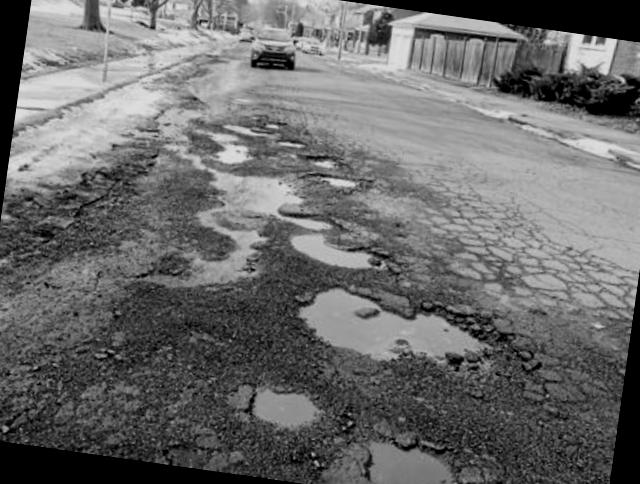Pothole: (159, 80, 317, 306), (279, 271, 520, 375), (352, 421, 497, 484), (240, 384, 336, 440), (304, 160, 366, 201), (306, 150, 354, 176), (251, 112, 292, 142), (271, 130, 312, 154)
